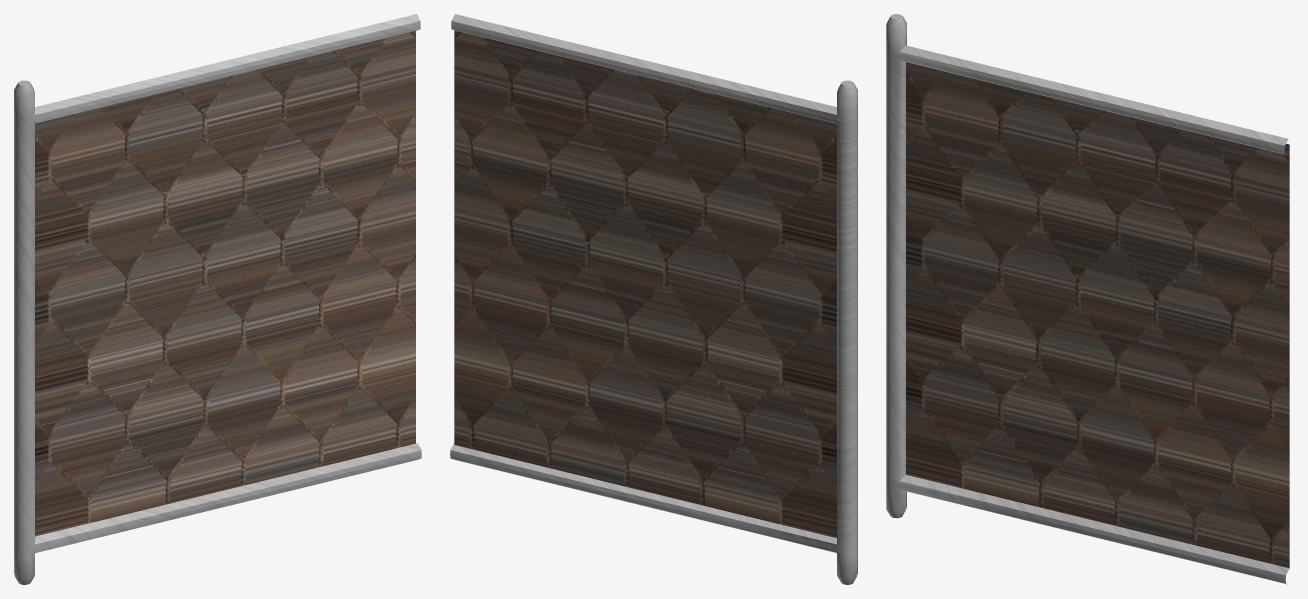
File: wireFence.glb
3 views of the same model, side by side, from view 1: azimuth 30°, elevation 25°; view 2: azimuth 150°, elevation 25°; view 3: azimuth 330°, elevation 25° (orthographic).
Parts seen in each view (by area): view 1: SM_WireFence; view 2: SM_WireFence; view 3: SM_WireFence.
Part boxes in pixels (left/top/right/bottom): SM_WireFence: left=14, top=14, right=421, bottom=584; SM_WireFence: left=450, top=14, right=857, bottom=584; SM_WireFence: left=886, top=14, right=1289, bottom=584.
Size of the model in its own units: 2.79 by 3.31 by 0.1288.
2 materials, 2 textured.
